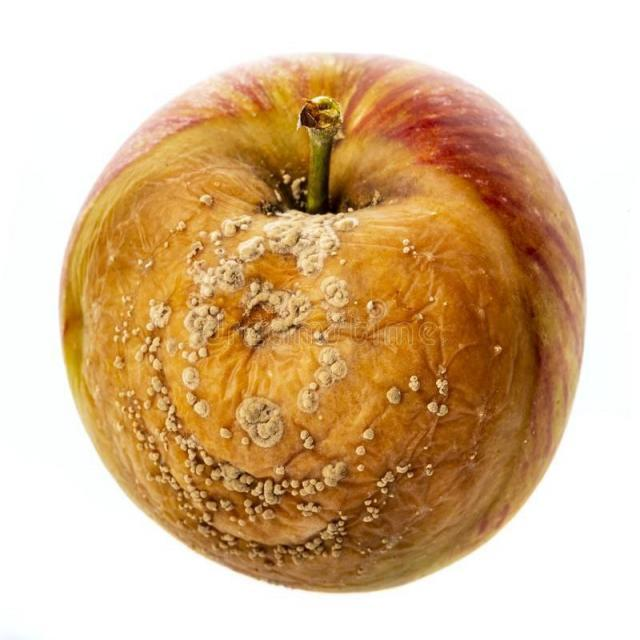Rotten: (98, 53, 567, 590)
